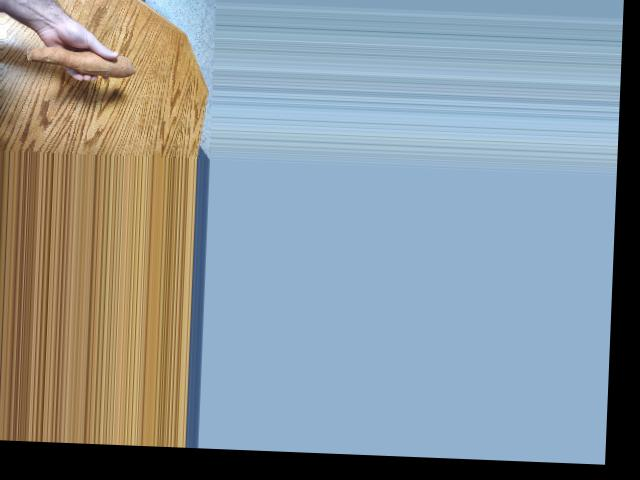sweet_potato: (21, 43, 138, 82)
